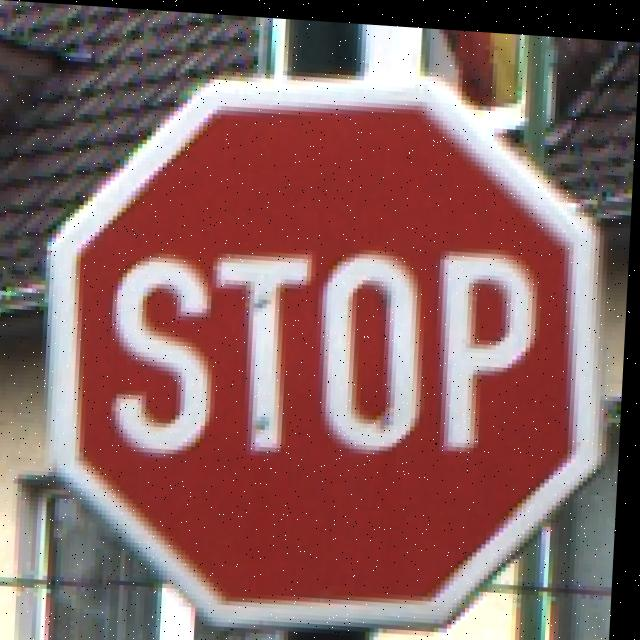stop: (37, 55, 612, 640)
